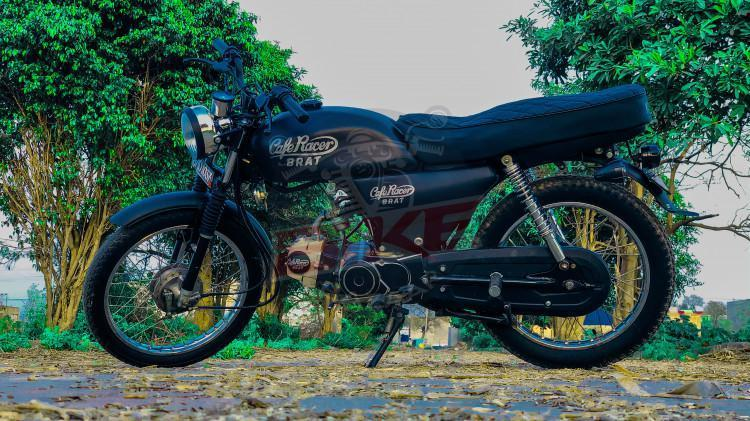motorcycle: (66, 9, 711, 382)
